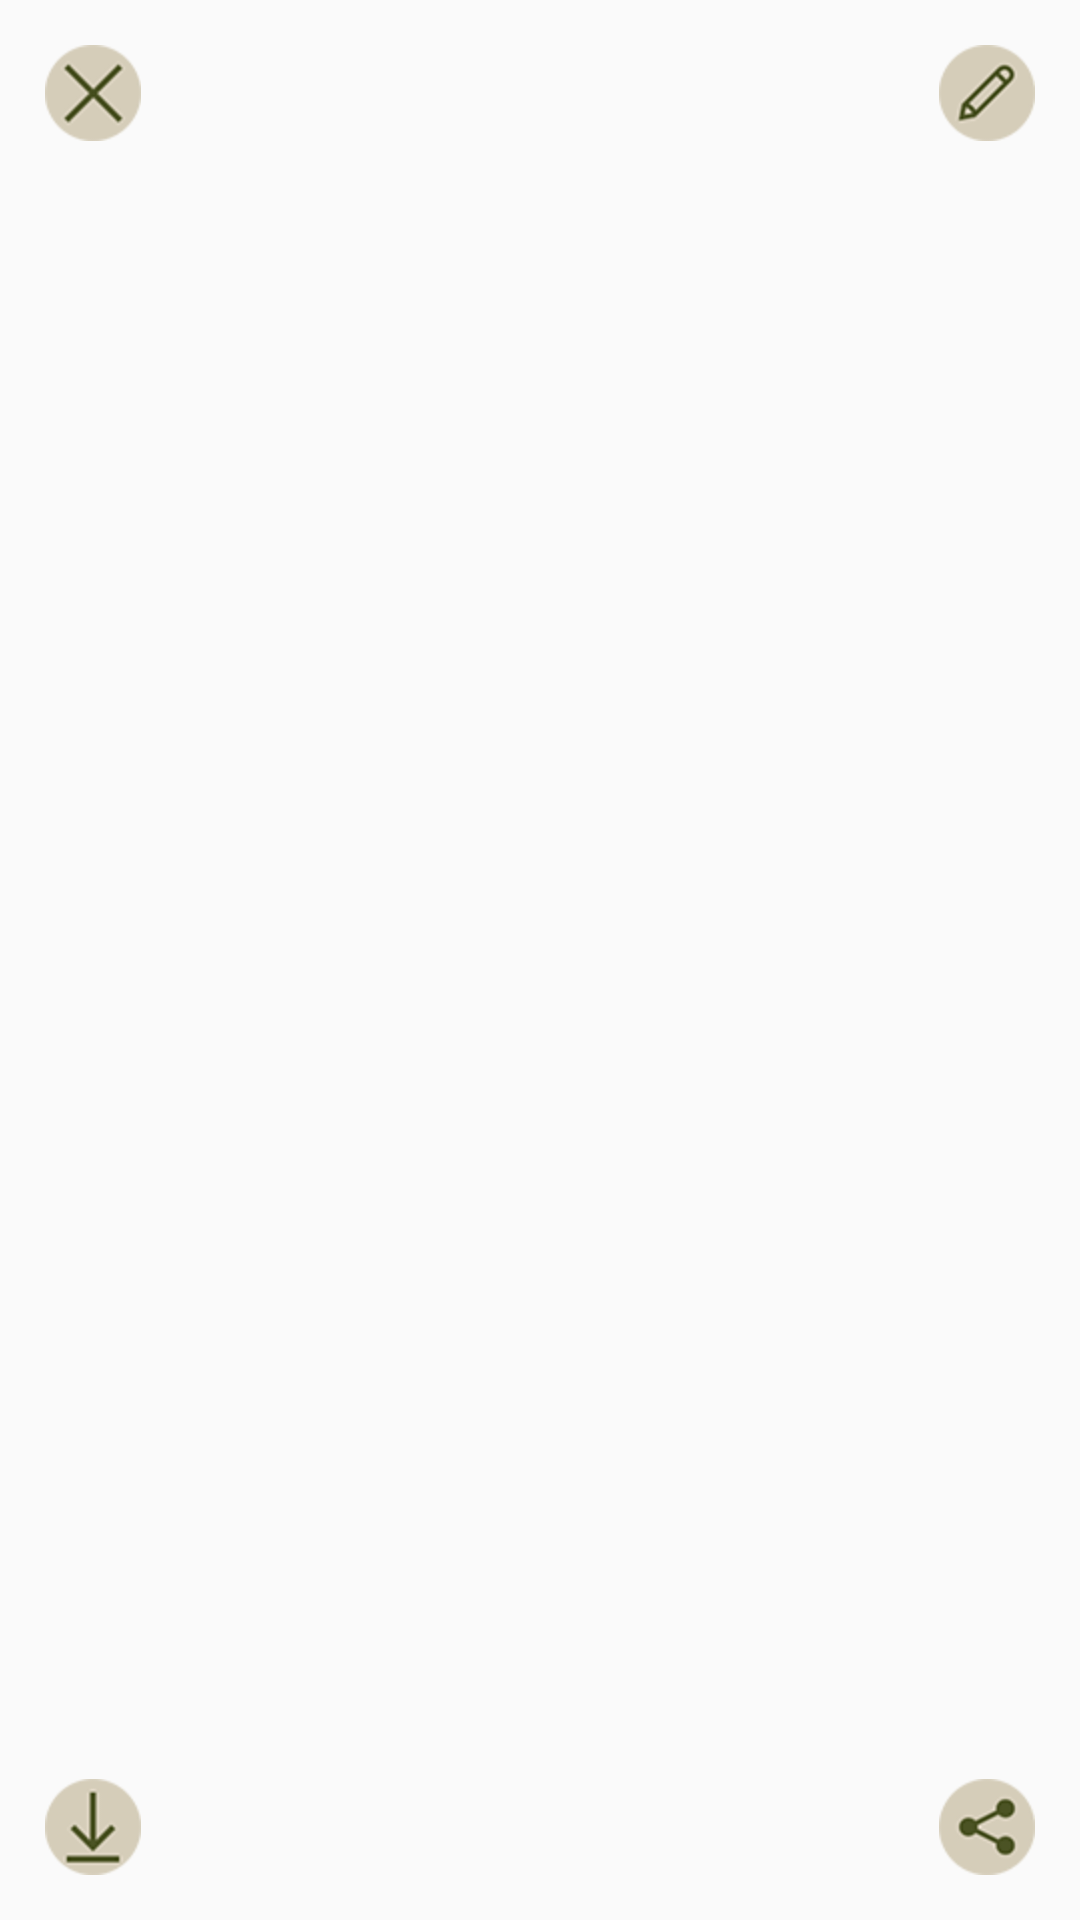

Icons on this 1080w x 1920h Android screen, each with its box as (x1, y1, x2, y2):
cancel: (45, 45, 141, 141)
edit: (939, 45, 1035, 141)
save: (45, 1779, 141, 1875)
share: (939, 1779, 1035, 1875)
